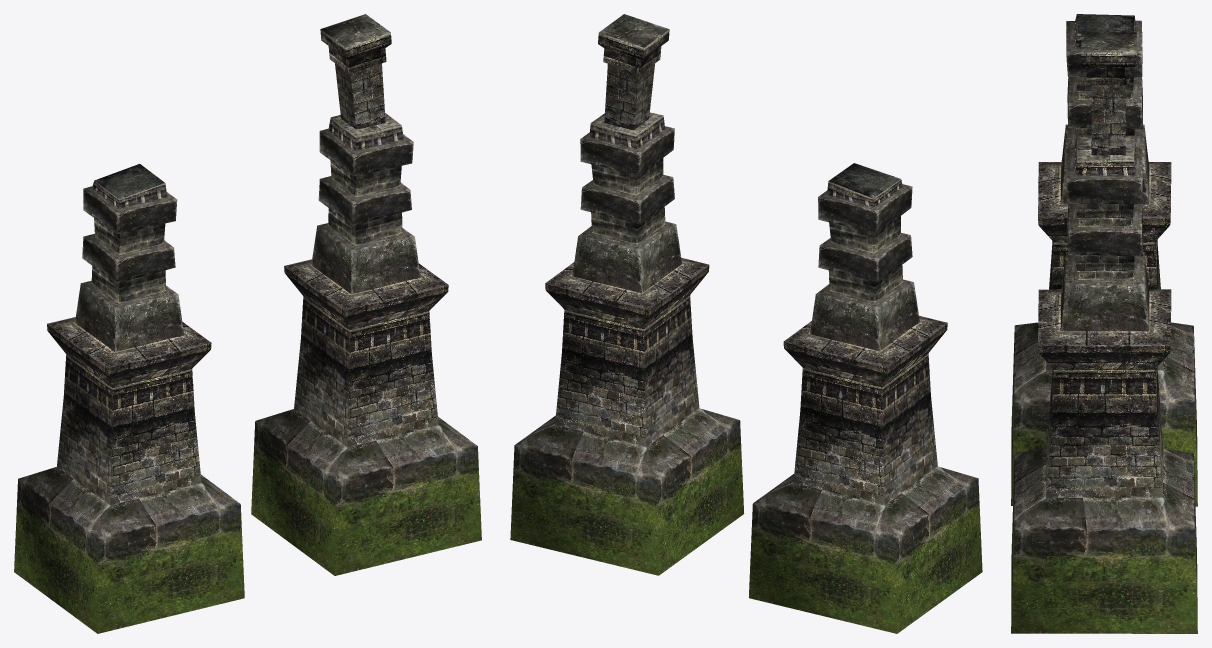
File: OZ_09_mi_arch02B.glb
3 renders of one model, left to right at view 1: azimuth 30°, elevation 25°; view 2: azimuth 150°, elevation 25°; view 3: azimuth 270°, elevation 25°, orthographic. The views are drawn at different scales.
Parts seen in each view (by area): view 1: OM_09_mi_arch02B; view 2: OM_09_mi_arch02B; view 3: OM_09_mi_arch02B.
Part boxes in pixels (x1,y1,x2,y2): OM_09_mi_arch02B: (14,14,481,633); OM_09_mi_arch02B: (510,14,982,633); OM_09_mi_arch02B: (1011,14,1197,633).
Bounding box in the file's own units: 12.49 × 15.47 × 4.77.
2 materials, 2 textured.
